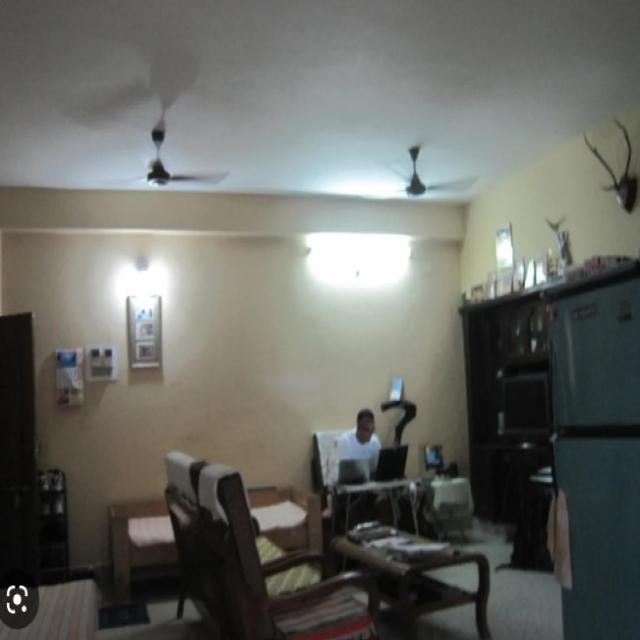Non_Damaged: (5, 7, 612, 639)
